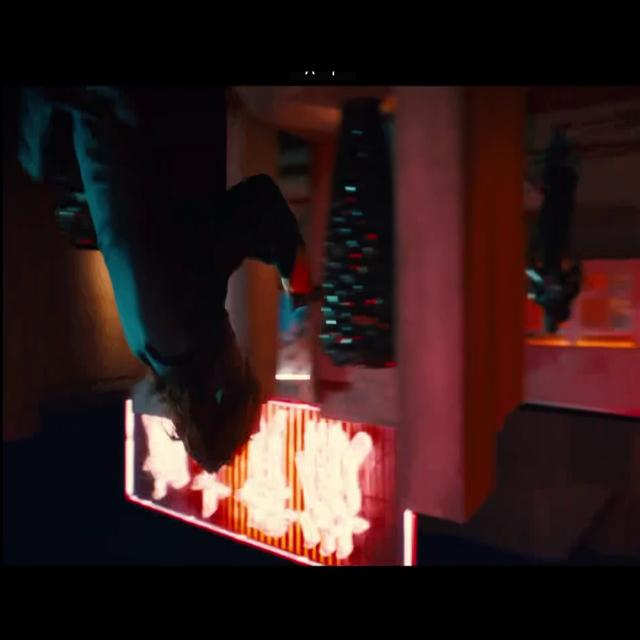weapons: (268, 232, 340, 329)
